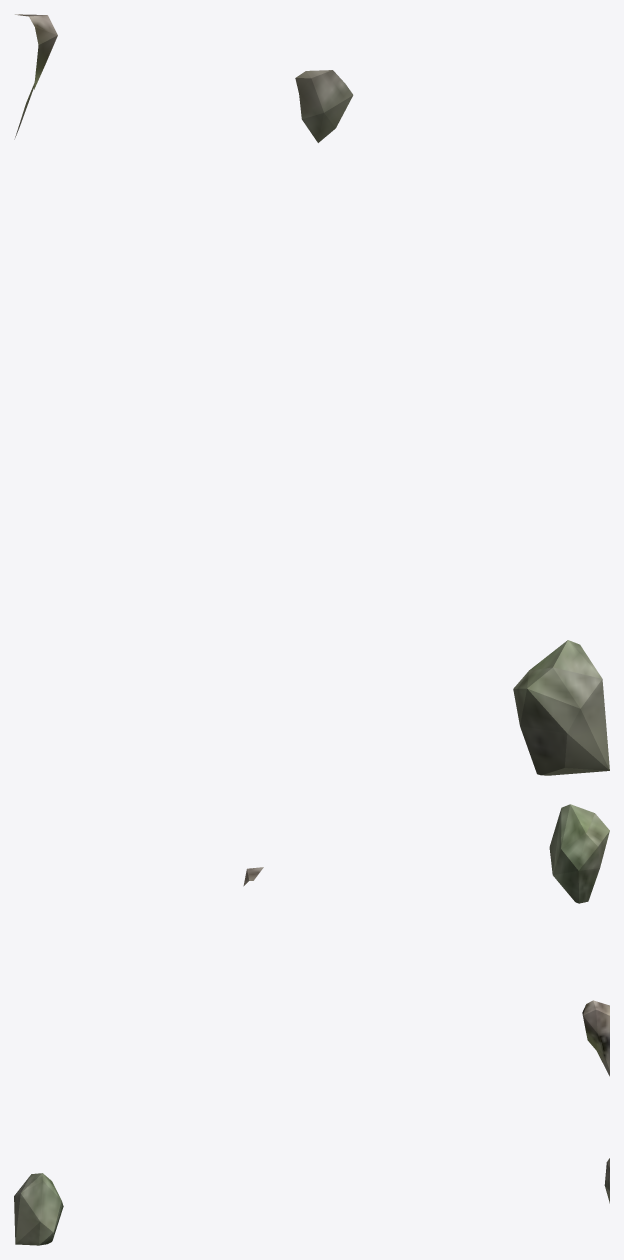
3 renders of one model, top to bottom at view 1: azimuth 30°, elevation 25°; view 2: azimuth 150°, elevation 25°; view 3: azimuth 270°, elevation 25°, orthographic. The views are drawn at different scales.
Size of the model in its own units: 3.02 by 3.48 by 8.12.
1 material, 1 textured.
